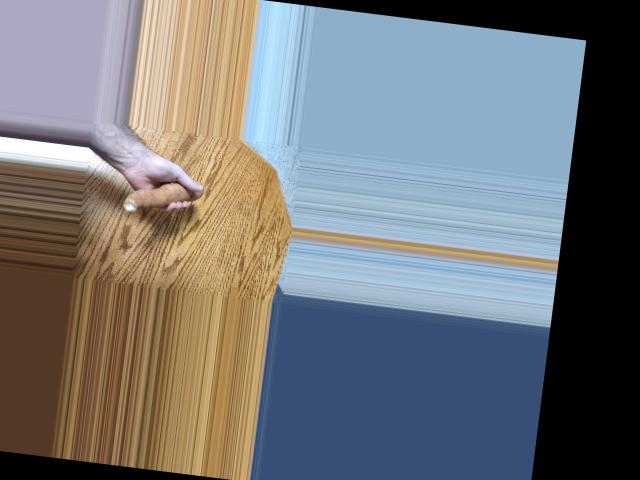sweet_potato: (117, 175, 208, 220)
